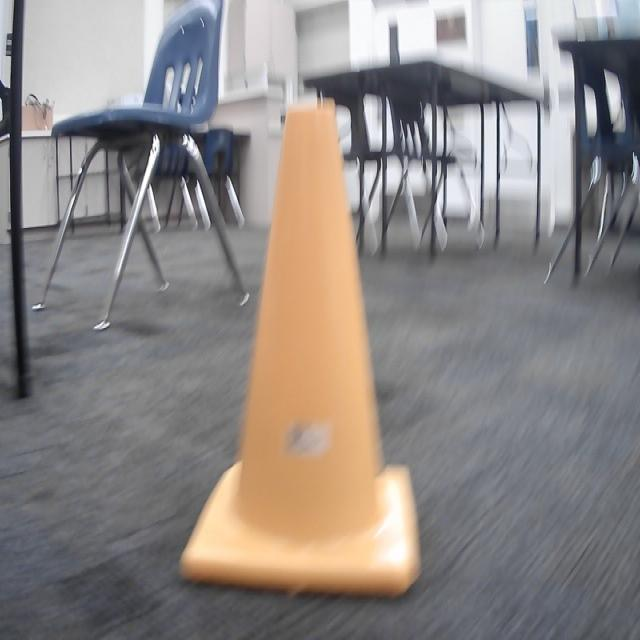cone: (178, 100, 421, 602)
